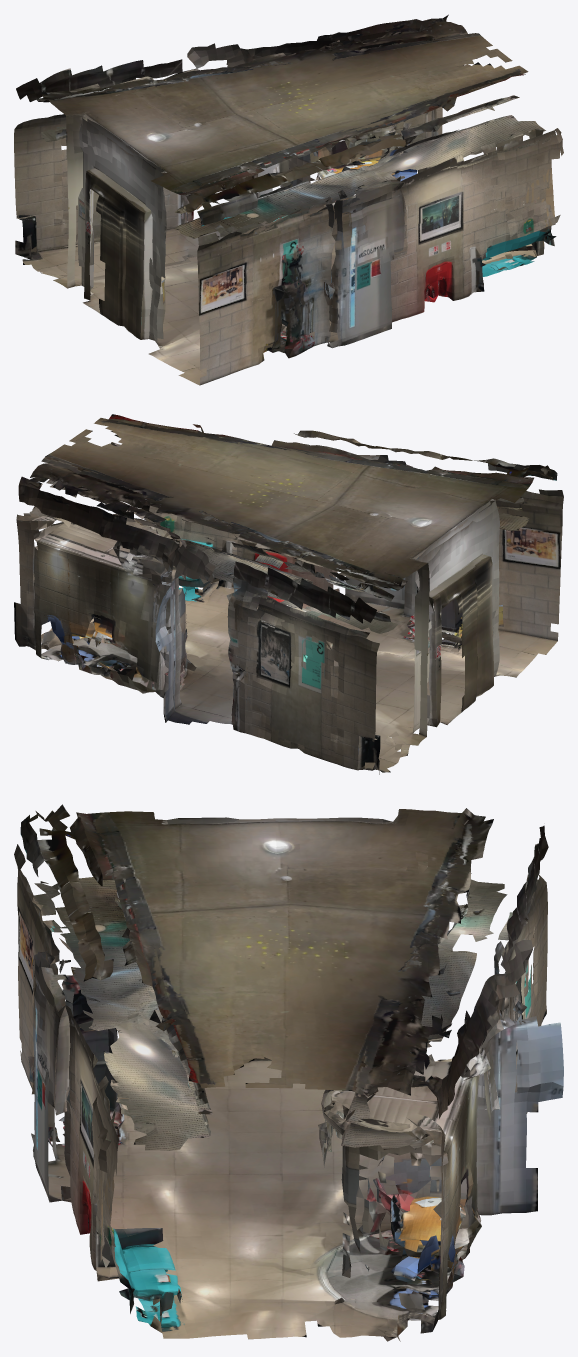
File: 3_corridor_middle-IM.fbx
3 renders of one model, top to bottom at view 1: azimuth 30°, elevation 25°; view 2: azimuth 150°, elevation 25°; view 3: azimuth 270°, elevation 25°, orthographic. The views are drawn at different scales.
Visible parts, largest first — view 1: 3_corridor_middle-IM; view 2: 3_corridor_middle-IM; view 3: 3_corridor_middle-IM.
Boxes of the visible parts, box(x1,y1,x2,y2) form: 3_corridor_middle-IM: box(14, 14, 563, 385); 3_corridor_middle-IM: box(14, 414, 563, 774); 3_corridor_middle-IM: box(14, 804, 563, 1341).
Bounding box in the file's own units: 771 × 341 × 637.
Materials: 1 (1 with a texture image).
